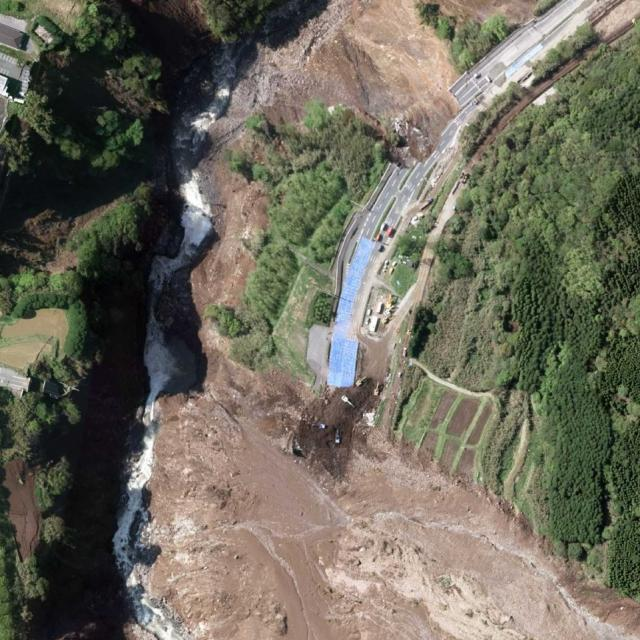landslide: (114, 0, 640, 640)
